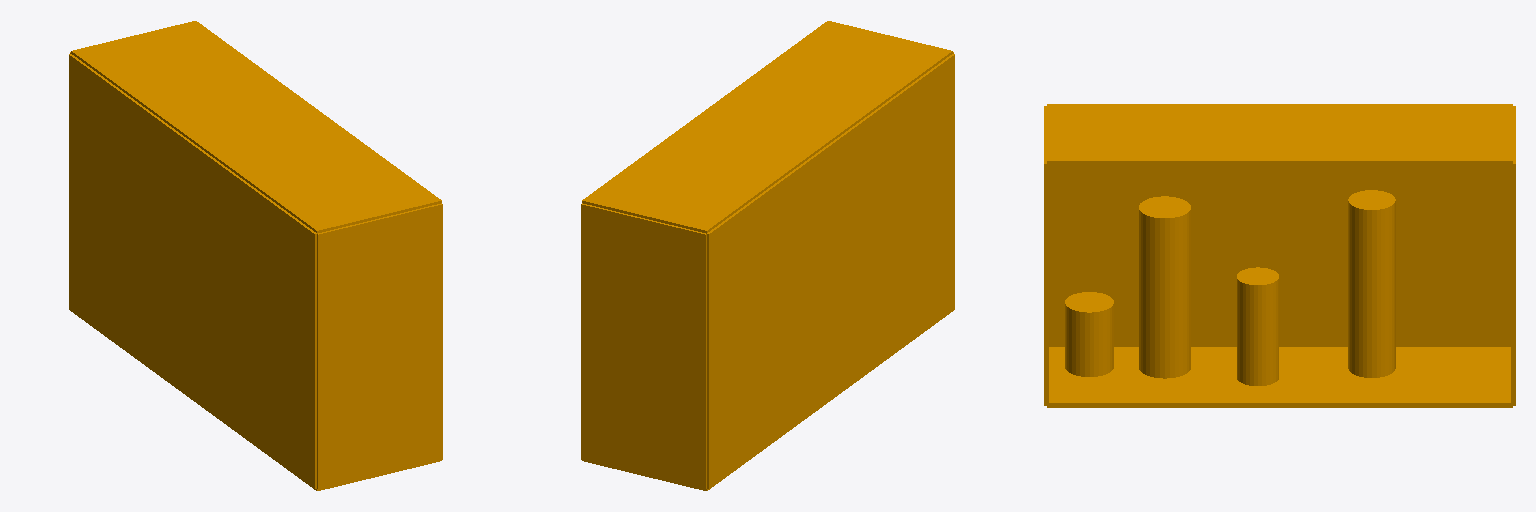
URDF robot description (syn_can_cabinet_1413):
<?xml version="1.0" ?>
<robot name="syn_can_cabinet_1413">
    <link concave="yes" name="base_link">
        <inertial>
            <origin rpy="0 0 0" xyz="0 0 0"/>
            <mass value="0.0"/>
            <inertia ixx="1e-08" ixy="0" ixz="0" iyy="1e-08" iyz="0" izz="1e-08"/>
        </inertial>
        <visual>
            <origin xyz="0 0 0" rpy="0 0 0" />
            <geometry>
                <mesh filename="syn_can_cabinet_1413.obj" scale="1.000000 1.000000 1.000000"/>
            </geometry>         
        </visual>

        <collision concave="yes">
            <origin xyz="0 0 0" rpy="0 0 0"/>
            <geometry>
                <mesh filename="syn_can_cabinet_1413.obj" scale="1.000000 1.000000 1.000000"/>
            </geometry>
        </collision>
    </link>
</robot>
    

--- Facts derived from the render (not from the file) ---
3 views of the same robot in one strip: view 1: azimuth 30°, elevation 25°; view 2: azimuth 150°, elevation 25°; view 3: azimuth 270°, elevation 25° (orthographic).
Robot: syn_can_cabinet_1413 — 1 links, 0 joints (none); root link base_link; default pose: every joint at zero.
Links seen in each view (by area): view 1: base_link; view 2: base_link; view 3: base_link.
Boxes of the visible links, box(x1,y1,x2,y2) form: base_link: box(69, 21, 442, 490); base_link: box(581, 21, 954, 490); base_link: box(1044, 104, 1515, 407).
Size in the robot's own frame: 0.1468 by 0.4965 by 0.287 metres.
1 mesh visuals loaded from 1 distinct referenced files (1 OBJ).
